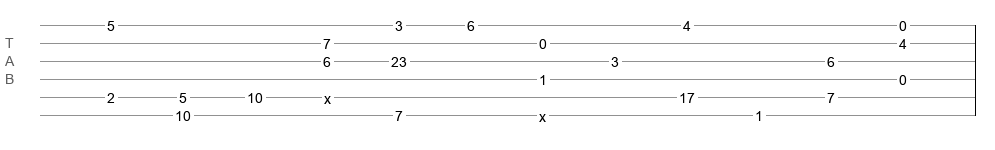0: (539, 36, 547, 46), (899, 18, 907, 28), (899, 72, 907, 82)
1: (539, 72, 547, 82), (755, 108, 763, 118)
10: (175, 108, 191, 118), (247, 90, 263, 100)
17: (679, 90, 695, 100)
2: (107, 90, 115, 100)
23: (391, 54, 407, 64)
3: (395, 18, 403, 28), (611, 54, 619, 64)
4: (683, 18, 691, 28), (899, 36, 907, 46)
5: (107, 18, 115, 28), (179, 90, 187, 100)
6: (323, 54, 331, 64), (467, 18, 475, 28), (827, 54, 835, 64)
7: (323, 36, 331, 46), (395, 108, 403, 118), (827, 90, 835, 100)
x: (324, 91, 331, 99), (539, 109, 546, 117)
